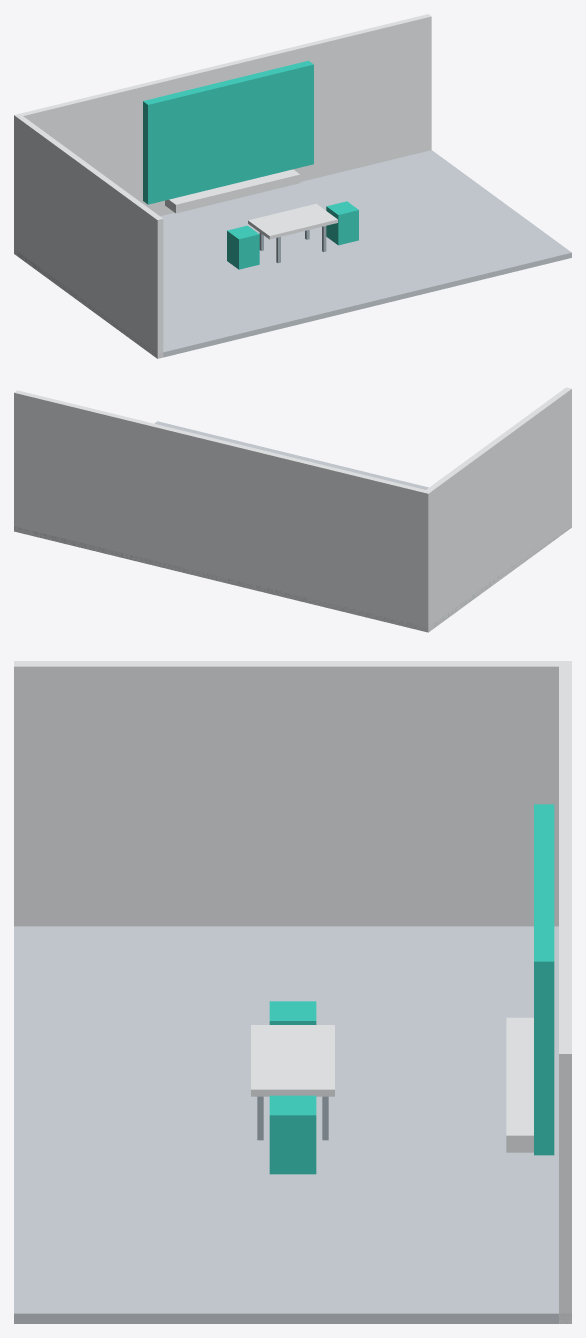
3 renders of one model, top to bottom at view 1: azimuth 30°, elevation 25°; view 2: azimuth 150°, elevation 25°; view 3: azimuth 270°, elevation 25°, orthographic. The views are drawn at different scales.
Visible parts, largest first — view 1: Exhibition Booth Concept; view 2: Exhibition Booth Concept; view 3: Exhibition Booth Concept.
Boxes of the visible parts, <box> form: Exhibition Booth Concept: <box>14,14,571,358</box>; Exhibition Booth Concept: <box>14,387,571,632</box>; Exhibition Booth Concept: <box>14,661,571,1323</box>.
Bounding box in the file's own units: 10 × 3.2 × 6.
